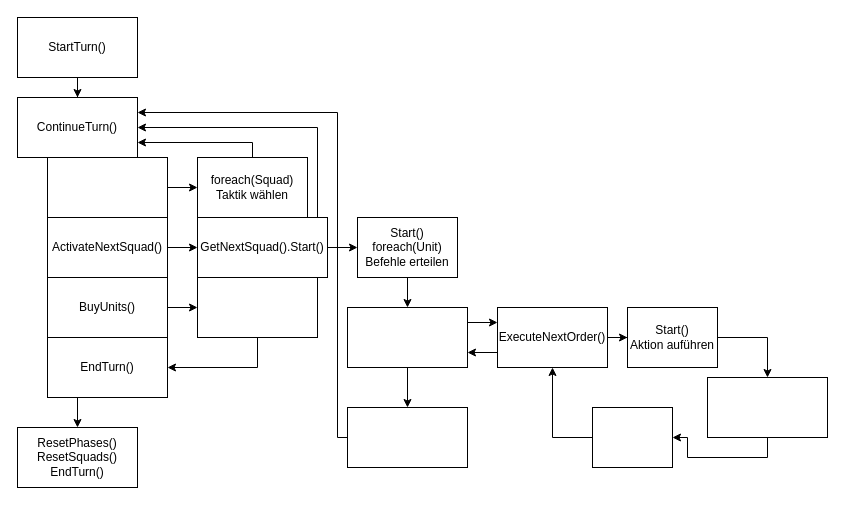
Image size: 845x505. Some labels were removed from this diagram. Here are the shapes that lost their labels. From the top down, the centre of each, then its label:
the point at 107,187: Decide()
the point at 257,307: foreach(Squad) Buy Units
the point at 407,337: Continue() ActivateNextUnit()
the point at 767,407: AnimationFinished()
the point at 407,437: Exit() Finished = true
the point at 632,437: Exit()
